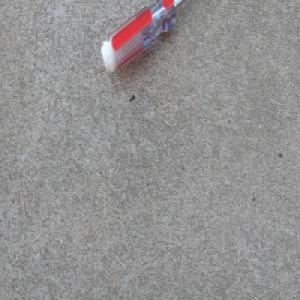Screwdriver: (99, 0, 191, 75)
